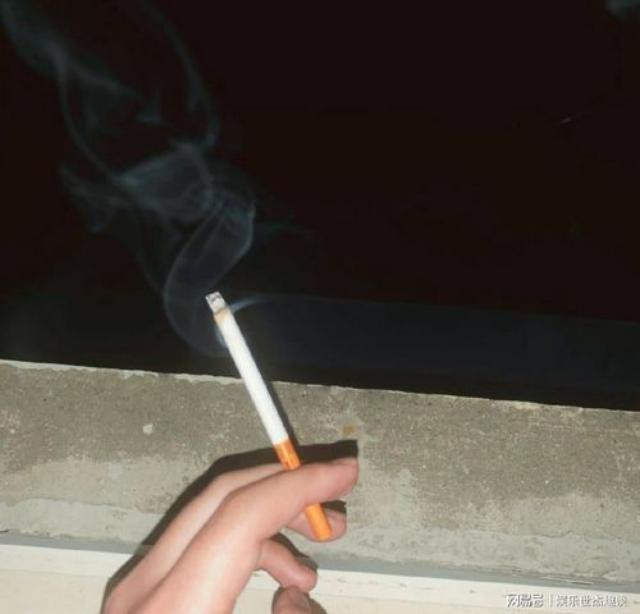Smoking: (206, 292, 334, 542)
